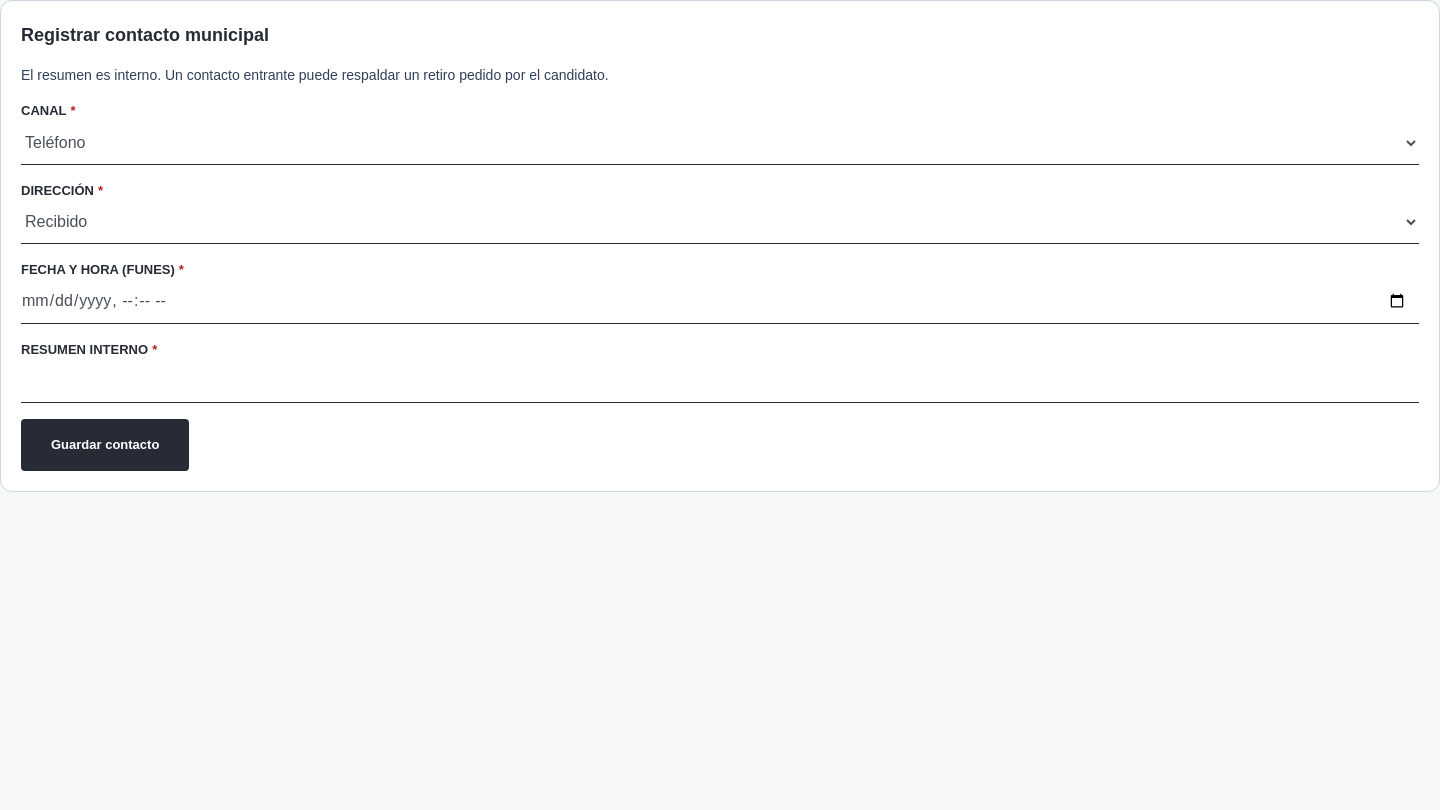
Test: conserva fecha y resumen ante rechazo del servidor
Type "2026-09-20T12:00" into the field labelled "Fecha y hora (Funes)" at (720, 302), box [21,280,1419,324]
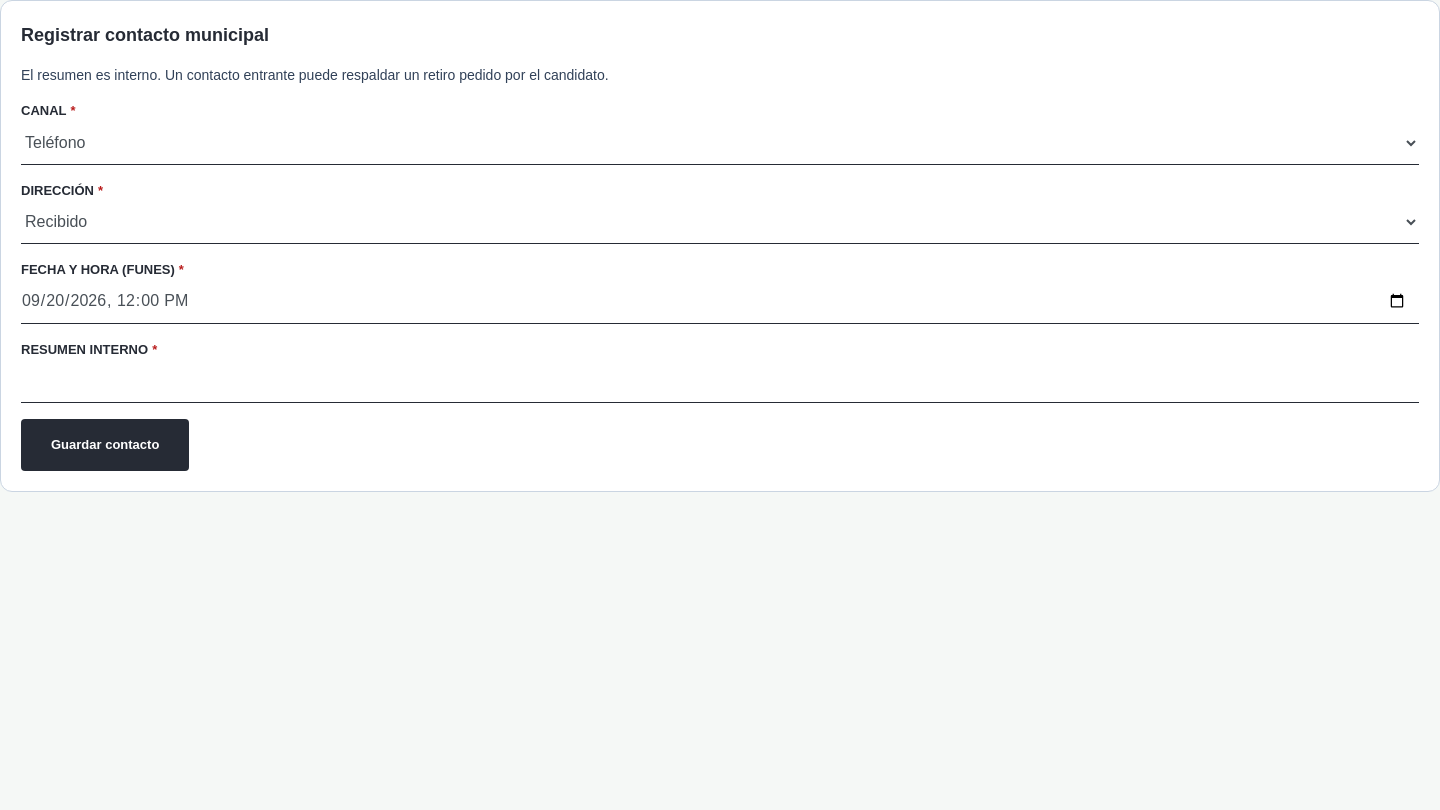
Type "Contacto ficticio retenido." into the field labelled "Resumen interno" at (720, 381), box [21,359,1419,403]
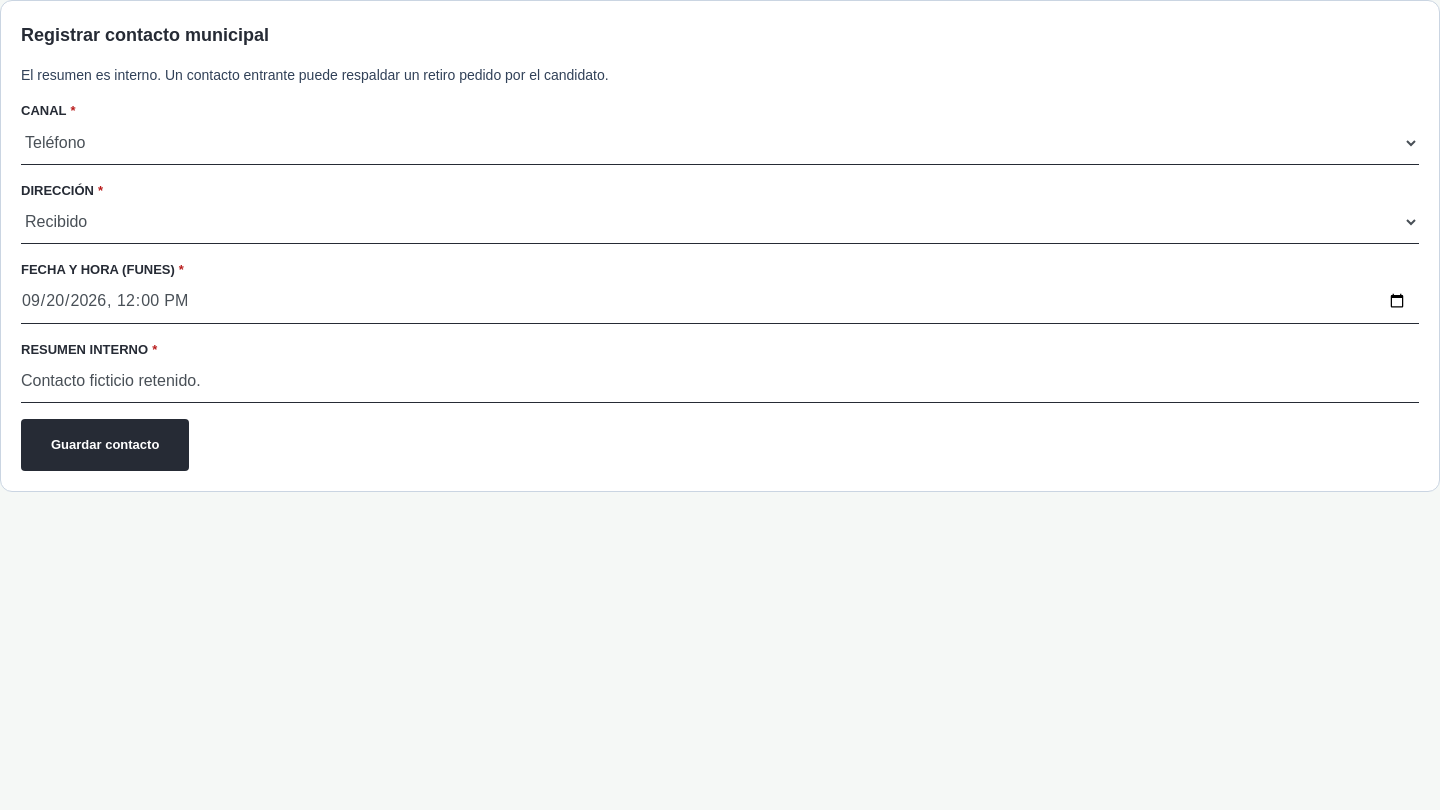
Click the button "Guardar contacto" at (105, 445), box [21,419,189,470]
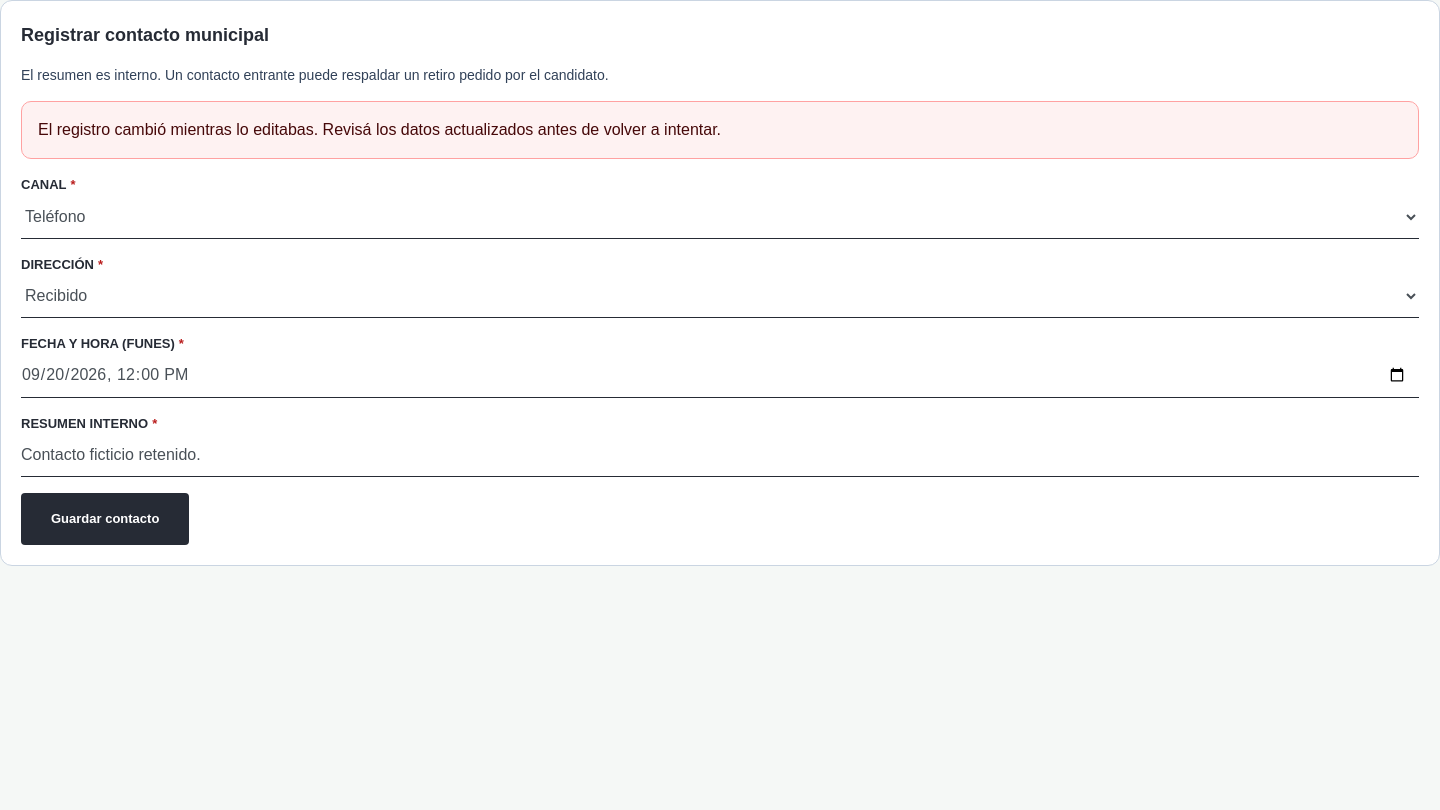
Expected: the text "El registro cambió mientras lo editabas" is shown, [38,121,721,138]
